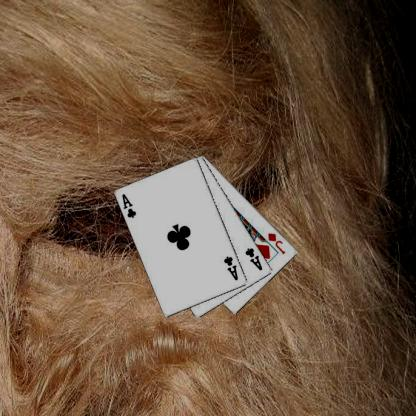AC: (242, 245, 263, 272), (221, 254, 240, 282), (120, 192, 138, 220)
JD: (266, 231, 286, 256)
